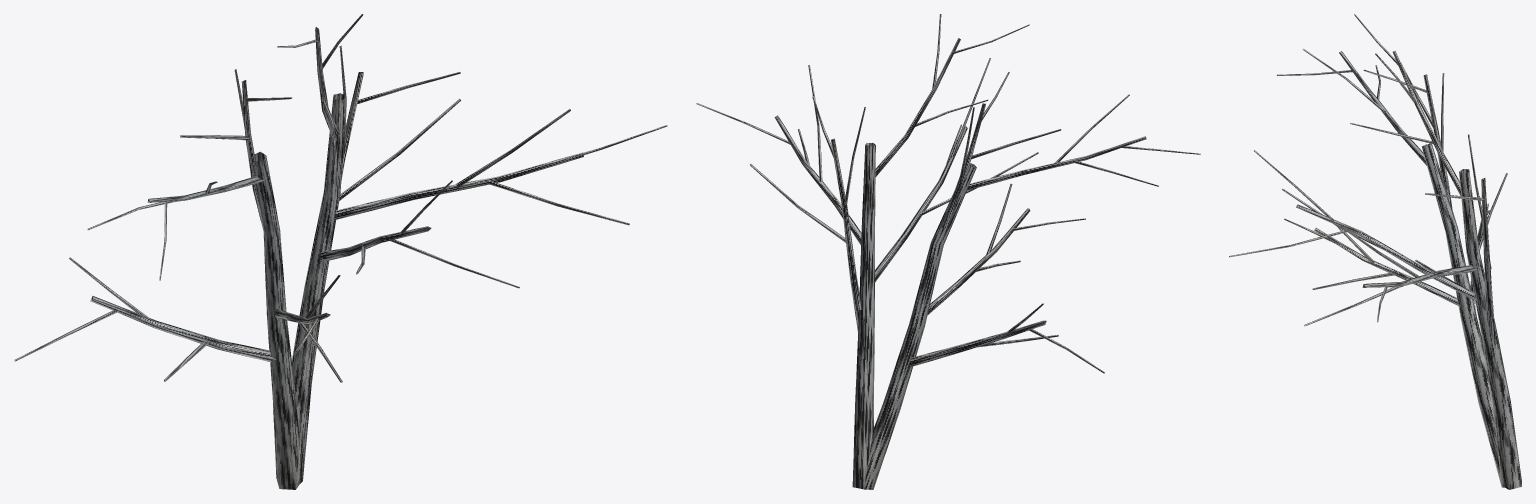
The model's file is acacia_bark_l1.gltf.
3 views of the same model, side by side, from view 1: azimuth 30°, elevation 25°; view 2: azimuth 150°, elevation 25°; view 3: azimuth 270°, elevation 25° (orthographic). The views are drawn at different scales.
Parts seen in each view (by area): view 1: acacia_bark_l1; view 2: acacia_bark_l1; view 3: acacia_bark_l1.
Part boxes in pixels (box(x1,y1,x2,y2)): acacia_bark_l1: box(14, 14, 667, 489); acacia_bark_l1: box(696, 14, 1200, 489); acacia_bark_l1: box(1229, 14, 1521, 489).
Size of the model in its own units: 8.61 by 7.6 by 4.69.
Materials: 1 (1 with a texture image).
